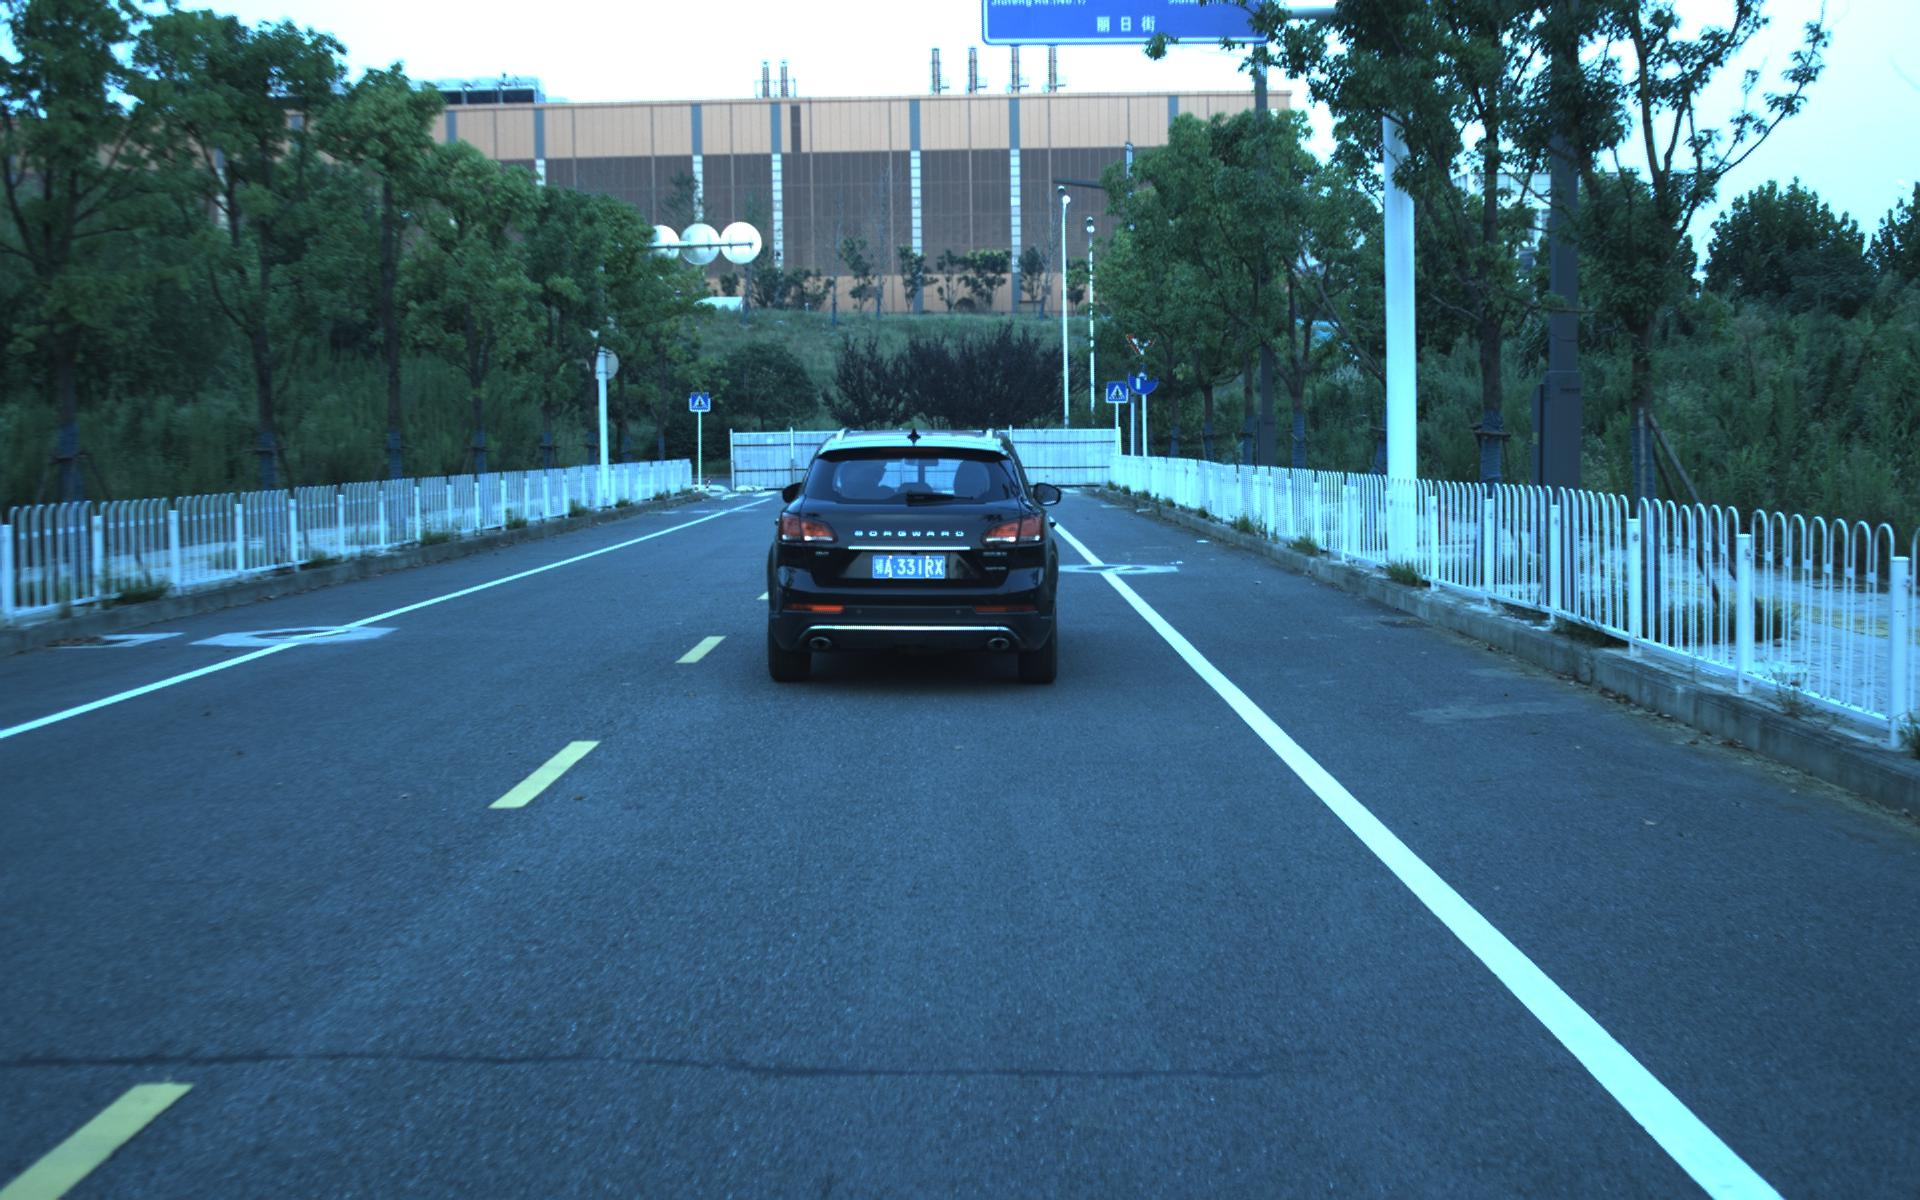Car: (763, 422, 1060, 684)
